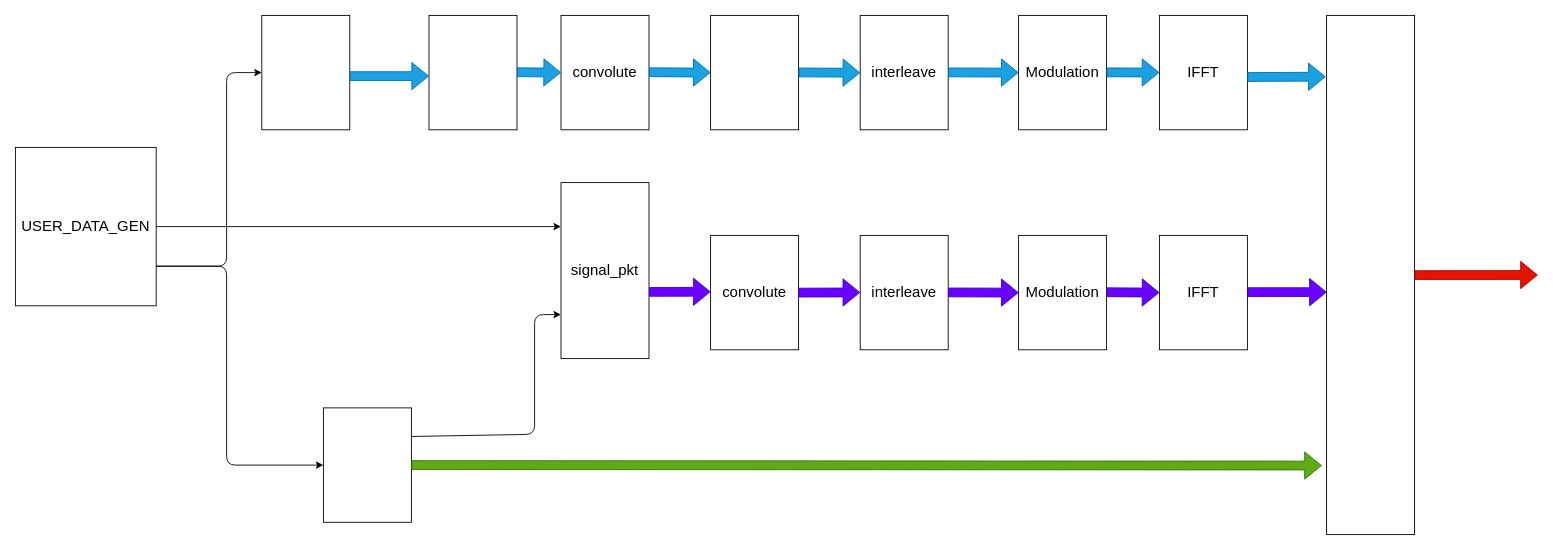
The diagram is 1553 pixels wide and 550 high, and some of its shapes have lost their labels. Each missing label, with the centre of its shape:
"ADD_CRC" belongs at (305,72).
"arrange" belongs at (1370,275).
"Preamble" belongs at (367,464).
"puncture" belongs at (754,72).
"screamble" belongs at (472,72).
